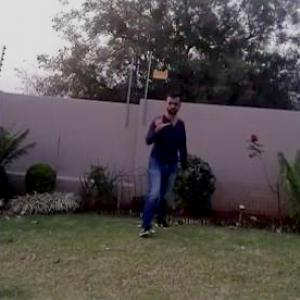follow_hand: (146, 108, 169, 134)
